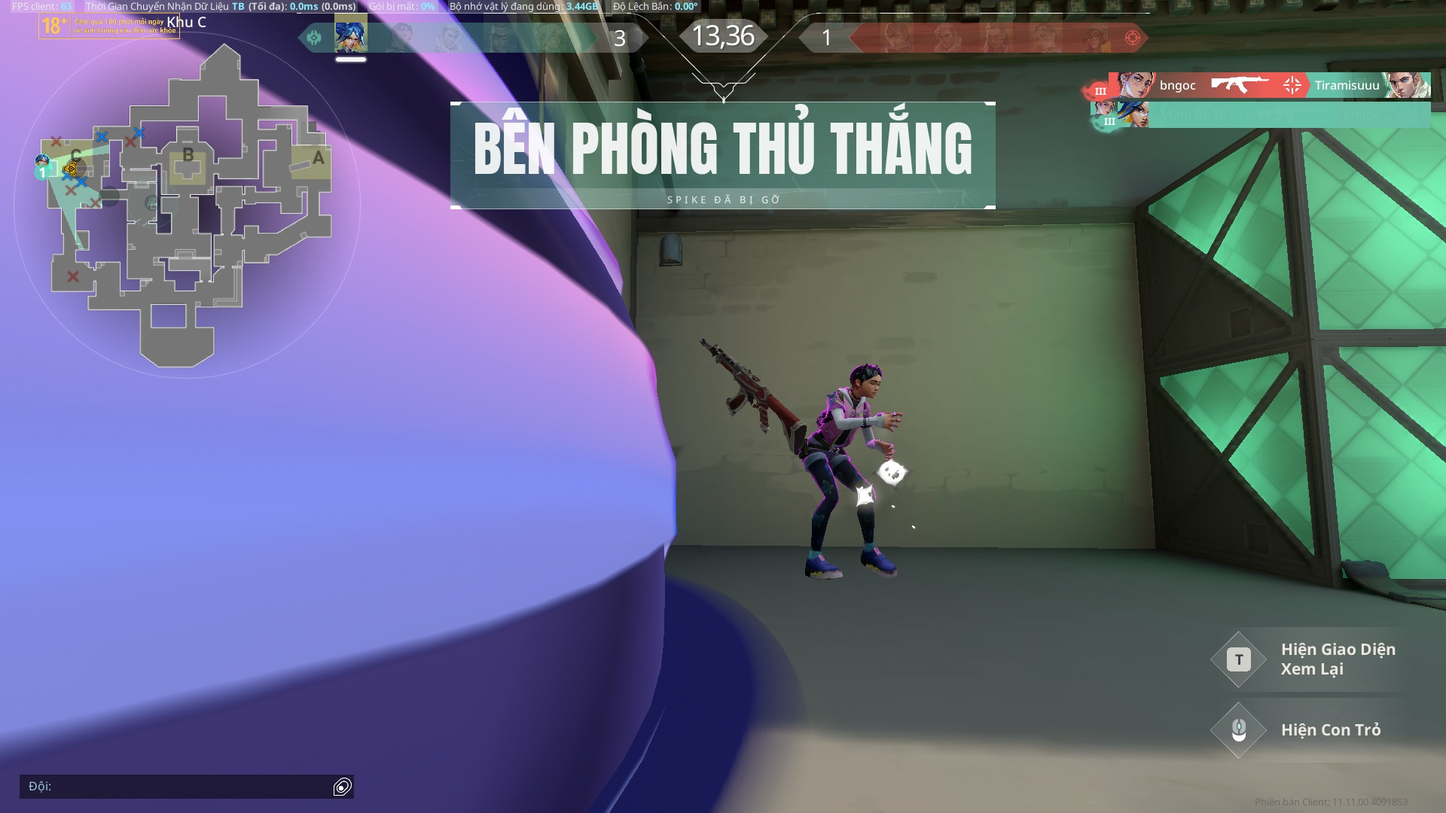body: (810, 388, 865, 449)
head: (851, 361, 881, 394)
